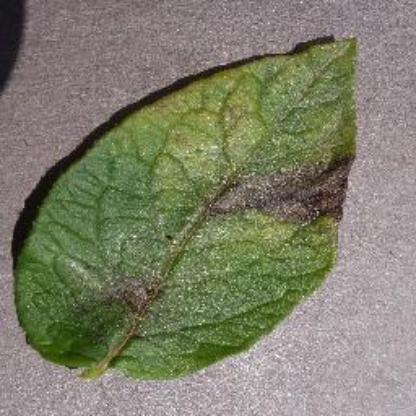Late-Blight: (6, 25, 374, 389)
